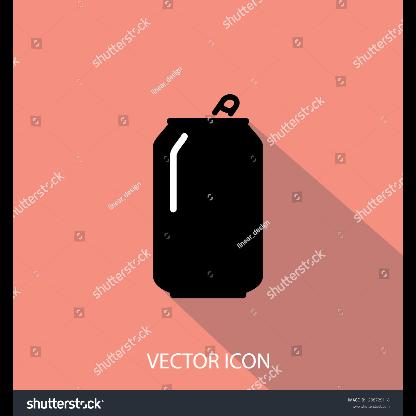Lid_Open: (203, 92, 245, 128)
Tin_Can: (149, 95, 271, 306)
